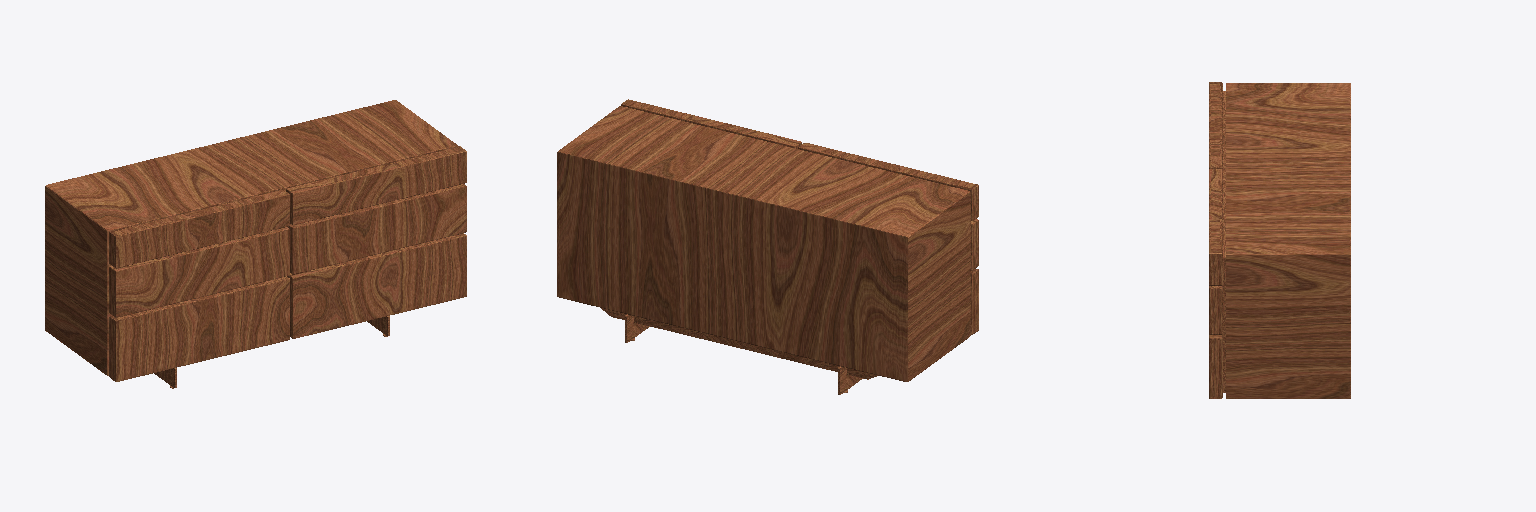
The picture shows the model from 3 angles: view 1: azimuth 30°, elevation 25°; view 2: azimuth 150°, elevation 25°; view 3: azimuth 270°, elevation 25°; orthographic projection.
Parts seen in each view (by area): view 1: main, drawer3, drawer2, drawer1; view 2: main, drawer1, beam1; view 3: main, drawer1, behind_drawer, drawer3, drawer2.
Part boxes in pixels (x1,y1,x2,y2): main: (45, 100, 458, 375); drawer3: (109, 233, 466, 381); drawer2: (109, 184, 466, 317); drawer1: (109, 146, 466, 268); main: (557, 106, 970, 381); drawer1: (621, 99, 978, 220); beam1: (601, 308, 877, 379); main: (1226, 83, 1350, 398); drawer1: (1209, 82, 1222, 285); behind_drawer: (1223, 91, 1225, 392); drawer3: (1209, 334, 1222, 398); drawer2: (1209, 285, 1222, 334).
Bounding box in the file's own units: 149 × 71.29 × 52.11.
Materials: 1 (1 with a texture image).